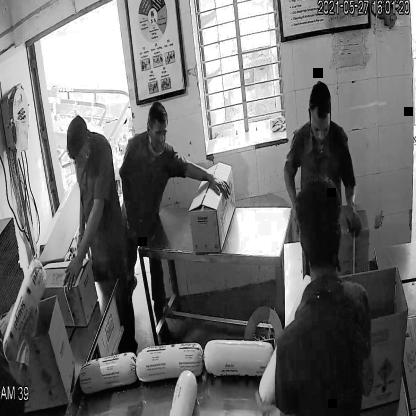no_goggles: (307, 114, 333, 138), (145, 123, 170, 144)
